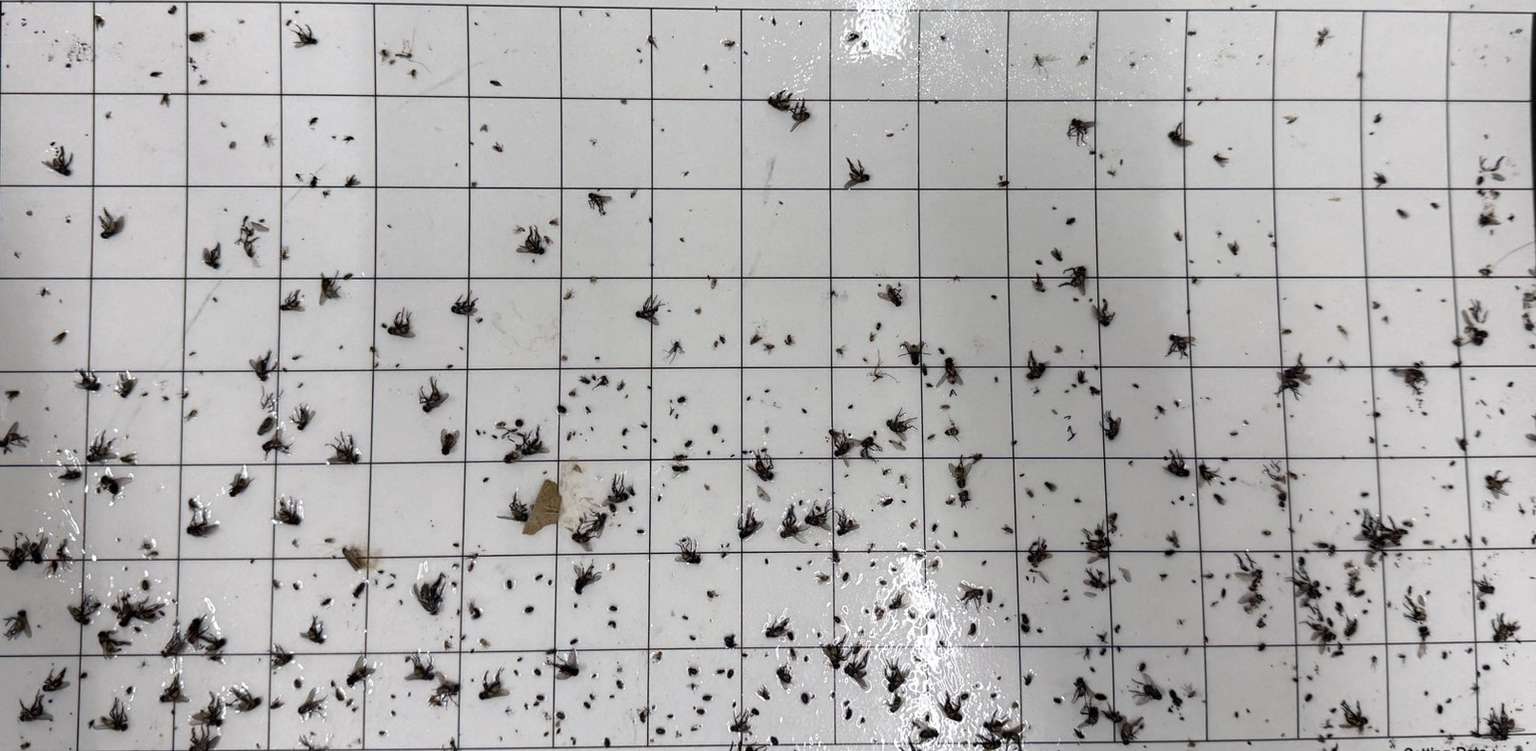fly: (1355, 507, 1390, 562), (1480, 703, 1526, 741), (412, 573, 449, 617), (324, 431, 363, 467), (188, 690, 225, 727), (92, 696, 131, 731), (18, 688, 55, 724), (544, 647, 581, 682), (416, 377, 451, 413), (572, 558, 604, 597), (1460, 308, 1490, 349), (385, 305, 420, 340), (96, 627, 133, 660), (843, 648, 872, 690), (779, 505, 810, 544), (884, 407, 919, 441), (0, 420, 31, 458), (820, 632, 851, 670), (1082, 521, 1112, 560), (514, 222, 547, 257), (247, 348, 280, 383), (261, 425, 293, 461), (1128, 675, 1164, 706), (880, 657, 911, 693), (842, 155, 872, 192), (85, 430, 118, 463), (496, 490, 529, 523), (96, 206, 128, 240), (345, 655, 377, 689), (1065, 114, 1097, 148), (296, 686, 330, 718), (634, 292, 665, 327), (479, 668, 510, 702), (1339, 700, 1370, 734), (316, 269, 343, 308), (99, 474, 134, 504), (272, 496, 304, 528), (2, 609, 34, 641), (41, 146, 74, 177), (159, 673, 192, 704), (1490, 611, 1521, 644), (748, 447, 777, 482), (109, 591, 137, 627), (1284, 352, 1312, 388), (230, 683, 262, 714), (1272, 370, 1303, 402), (1057, 263, 1087, 296), (67, 592, 96, 626), (131, 595, 165, 624), (736, 507, 765, 541), (806, 497, 832, 534), (404, 652, 436, 682), (935, 691, 965, 723), (1379, 515, 1409, 547), (186, 510, 220, 538), (450, 289, 482, 318), (0, 540, 29, 572), (1164, 333, 1197, 361), (1390, 368, 1428, 392), (787, 98, 813, 133), (1022, 349, 1050, 381), (1026, 535, 1054, 567), (585, 190, 615, 219), (266, 641, 295, 671), (833, 506, 862, 536), (1161, 449, 1191, 478), (159, 629, 187, 660), (435, 670, 462, 702), (1485, 469, 1512, 501), (947, 455, 972, 489), (937, 358, 966, 387), (299, 614, 326, 645), (958, 581, 984, 613), (899, 340, 932, 365), (289, 403, 316, 432), (228, 470, 255, 499), (42, 666, 71, 693), (1167, 121, 1194, 150), (764, 84, 794, 110), (1119, 716, 1145, 746), (185, 729, 220, 751), (186, 614, 206, 652), (571, 519, 594, 552), (1068, 676, 1096, 703), (676, 536, 702, 565), (1196, 459, 1222, 488), (998, 722, 1027, 748), (606, 473, 630, 504), (830, 436, 862, 459), (22, 536, 49, 563), (114, 370, 139, 399), (438, 426, 461, 457), (1103, 411, 1126, 442), (877, 282, 904, 308), (1089, 301, 1116, 327), (912, 718, 940, 743), (1471, 574, 1496, 601), (277, 290, 306, 313), (73, 369, 102, 392), (587, 507, 608, 538), (729, 709, 754, 735), (983, 710, 1010, 734), (202, 240, 224, 269), (764, 615, 791, 638), (1077, 704, 1100, 729), (976, 731, 1004, 751), (1084, 567, 1107, 591), (1102, 700, 1124, 725), (776, 664, 794, 691), (204, 634, 228, 653), (1343, 615, 1359, 638)
test: (521, 478, 564, 538), (1290, 569, 1322, 615), (1304, 620, 1337, 655), (518, 426, 551, 458), (869, 348, 893, 387), (341, 543, 371, 572), (292, 23, 321, 50), (859, 434, 884, 461), (394, 38, 420, 63), (1031, 52, 1059, 75), (664, 337, 687, 364), (1416, 624, 1434, 658), (56, 538, 74, 568), (237, 238, 260, 261), (1270, 482, 1288, 510), (58, 464, 84, 483), (253, 414, 277, 434), (1477, 210, 1502, 228), (1313, 28, 1333, 48), (888, 589, 907, 610), (1031, 271, 1048, 294), (43, 557, 60, 579), (884, 694, 904, 712), (1075, 52, 1094, 70), (943, 424, 962, 442), (1021, 667, 1038, 687), (1169, 688, 1186, 708), (671, 462, 692, 478), (1373, 170, 1388, 192), (1211, 152, 1230, 169), (957, 489, 973, 509), (722, 632, 739, 650), (1166, 529, 1182, 548), (646, 32, 661, 52), (1455, 434, 1470, 454), (120, 450, 137, 467), (595, 373, 612, 390), (331, 686, 347, 704), (52, 330, 68, 348), (1226, 239, 1242, 257), (343, 174, 362, 189), (188, 30, 208, 44), (268, 695, 285, 711), (352, 581, 367, 599), (262, 132, 277, 150), (757, 684, 772, 702), (468, 601, 482, 620), (1050, 245, 1064, 264), (1280, 112, 1299, 126), (428, 693, 444, 709), (4, 388, 21, 403), (92, 13, 107, 30), (503, 449, 520, 464), (1394, 206, 1411, 221), (1213, 492, 1230, 507), (671, 451, 689, 465), (845, 30, 861, 45), (816, 570, 831, 586), (1477, 265, 1494, 279), (1336, 323, 1350, 340), (1109, 509, 1121, 528), (1075, 369, 1089, 385), (852, 641, 866, 657), (307, 114, 321, 129), (491, 140, 506, 154), (159, 92, 173, 107), (880, 494, 894, 509), (1400, 516, 1416, 529), (749, 332, 763, 346), (308, 174, 321, 189), (577, 373, 592, 386), (1002, 522, 1015, 537), (140, 578, 152, 594), (138, 539, 154, 551), (831, 548, 842, 565), (319, 595, 333, 608), (187, 497, 200, 511), (723, 37, 737, 50), (556, 403, 569, 417), (493, 419, 508, 431), (1372, 111, 1384, 126), (968, 621, 978, 639), (1351, 588, 1367, 599), (207, 655, 224, 665), (478, 122, 491, 135), (567, 387, 580, 400), (186, 409, 199, 422), (1335, 359, 1348, 372), (947, 387, 960, 400), (637, 709, 649, 723), (294, 171, 306, 185), (1064, 213, 1076, 227), (1173, 230, 1185, 244), (614, 379, 626, 393), (1088, 385, 1102, 397), (1094, 690, 1108, 702), (513, 224, 528, 235), (653, 648, 664, 663), (150, 70, 165, 81), (709, 276, 719, 292), (271, 577, 283, 590), (479, 636, 491, 649), (687, 680, 700, 692), (166, 4, 179, 16), (835, 344, 847, 357), (717, 333, 730, 345), (1155, 404, 1168, 416), (1371, 299, 1383, 312), (1450, 359, 1463, 371), (1185, 686, 1197, 699), (1325, 544, 1338, 556), (1286, 469, 1298, 482), (1469, 682, 1481, 695), (466, 550, 480, 561), (784, 333, 795, 347), (997, 178, 1011, 189), (1280, 326, 1294, 337), (763, 424, 774, 438), (1315, 539, 1329, 550), (1463, 532, 1474, 546), (449, 736, 459, 751), (542, 233, 554, 245), (227, 140, 239, 152), (763, 341, 775, 353), (279, 249, 291, 261), (562, 289, 574, 301), (368, 344, 380, 356), (1380, 313, 1392, 325), (588, 136, 600, 148), (343, 133, 356, 144), (489, 78, 502, 89), (379, 48, 390, 61), (769, 16, 780, 29), (589, 274, 600, 287), (343, 270, 354, 283), (1054, 344, 1065, 357), (1325, 616, 1336, 629), (1475, 173, 1485, 187), (144, 549, 159, 558), (290, 537, 301, 549), (523, 604, 535, 615), (406, 67, 418, 78), (1035, 256, 1046, 268), (1163, 15, 1175, 26), (180, 390, 191, 402), (939, 401, 951, 412), (946, 494, 957, 506), (1045, 481, 1057, 492), (1164, 548, 1176, 559), (959, 691, 971, 702), (929, 558, 941, 569), (1323, 718, 1335, 729), (615, 677, 625, 690), (342, 697, 355, 707), (828, 289, 841, 299), (710, 423, 720, 436), (868, 331, 878, 344), (789, 647, 799, 660), (1083, 647, 1093, 660), (564, 430, 573, 444), (1405, 583, 1414, 597), (607, 619, 618, 630), (700, 63, 711, 74), (236, 17, 247, 28), (620, 426, 631, 437), (514, 417, 525, 428), (936, 345, 947, 356), (1313, 301, 1324, 312), (1097, 632, 1108, 643), (907, 610, 918, 621), (1107, 577, 1118, 588), (1316, 734, 1327, 745), (1478, 398, 1489, 409), (548, 216, 560, 226), (19, 741, 31, 751), (556, 709, 566, 721), (602, 736, 612, 748), (688, 666, 698, 678), (701, 692, 713, 702), (40, 287, 50, 299), (388, 56, 398, 68), (676, 394, 688, 404), (619, 95, 629, 107), (859, 39, 869, 51), (683, 438, 693, 450), (291, 353, 303, 363), (1106, 169, 1118, 179), (1506, 379, 1516, 391), (986, 589, 994, 604), (908, 518, 918, 530), (1025, 488, 1035, 500), (655, 727, 668, 736), (1185, 29, 1198, 38), (1422, 537, 1435, 546), (1331, 650, 1347, 657), (291, 581, 301, 592), (293, 678, 303, 689), (11, 250, 21, 261), (283, 17, 294, 27), (692, 306, 703, 316), (938, 34, 949, 44), (161, 393, 171, 404), (874, 321, 884, 332), (919, 366, 930, 376), (799, 405, 810, 415), (703, 482, 713, 493), (1429, 200, 1440, 210), (1173, 399, 1183, 410), (1506, 213, 1517, 223), (1497, 407, 1508, 417), (786, 631, 796, 642), (770, 735, 780, 746), (607, 503, 618, 513), (840, 571, 850, 582), (881, 467, 892, 477), (1186, 738, 1197, 748), (1435, 704, 1445, 715), (505, 578, 514, 590), (727, 668, 736, 680), (104, 109, 113, 121), (211, 294, 220, 306), (560, 353, 569, 365), (801, 693, 810, 705), (1020, 624, 1032, 633), (1297, 555, 1306, 567), (845, 707, 853, 720), (1480, 536, 1488, 549), (534, 572, 544, 582), (125, 685, 135, 695), (532, 667, 542, 677), (296, 380, 306, 390), (924, 380, 934, 390), (1304, 692, 1314, 702), (1473, 429, 1483, 439), (1470, 729, 1480, 739), (535, 693, 546, 702), (569, 735, 578, 746), (198, 78, 209, 87), (628, 190, 637, 201), (846, 401, 855, 412), (926, 432, 937, 441), (993, 374, 1002, 385), (1128, 60, 1137, 71), (1204, 571, 1215, 580), (1262, 528, 1273, 537), (1370, 654, 1379, 665), (1478, 600, 1487, 611), (544, 647, 558, 654), (467, 560, 475, 572), (1372, 410, 1384, 418), (1368, 434, 1376, 446), (1021, 613, 1029, 625), (482, 475, 491, 485), (706, 590, 716, 599), (469, 180, 479, 189), (990, 292, 999, 302), (757, 14, 766, 24), (604, 10, 613, 20), (713, 5, 722, 15), (280, 365, 290, 374), (372, 361, 381, 371), (337, 343, 346, 353), (720, 549, 729, 559), (1191, 275, 1200, 285), (1215, 229, 1224, 239), (1185, 85, 1195, 94), (1229, 429, 1239, 438), (1326, 354, 1335, 364), (751, 707, 760, 717), (898, 474, 907, 484), (1210, 599, 1220, 608), (1257, 642, 1266, 652), (1422, 689, 1431, 699), (1356, 70, 1366, 79), (324, 536, 335, 544), (321, 189, 332, 197), (330, 132, 338, 143), (763, 556, 771, 567), (1087, 149, 1098, 157), (931, 522, 939, 533), (1139, 662, 1147, 673), (88, 718, 95, 730), (1518, 504, 1525, 516), (380, 321, 389, 330), (377, 567, 386, 576), (386, 581, 395, 590), (546, 577, 555, 586), (139, 661, 148, 670), (79, 671, 88, 680), (609, 604, 618, 613), (569, 636, 578, 645), (451, 561, 460, 570), (512, 668, 521, 677), (716, 667, 725, 676), (25, 209, 34, 218), (63, 217, 72, 226), (678, 235, 687, 244), (584, 405, 593, 414), (640, 421, 649, 430), (1187, 257, 1196, 266), (833, 615, 842, 624), (1053, 696, 1062, 705), (1360, 490, 1369, 499), (1396, 652, 1405, 661), (1423, 588, 1432, 597), (329, 678, 337, 688), (636, 527, 646, 535), (713, 339, 721, 349), (633, 47, 643, 55), (741, 49, 751, 57), (65, 61, 73, 71), (446, 362, 454, 372), (188, 350, 198, 358), (763, 387, 773, 395), (777, 198, 785, 208), (1100, 647, 1108, 657), (1228, 475, 1238, 483), (1467, 646, 1475, 656), (1445, 696, 1453, 706), (248, 557, 257, 565), (379, 728, 387, 737), (572, 602, 581, 610), (443, 640, 451, 649), (403, 654, 411, 663), (504, 706, 512, 715), (532, 700, 541, 708), (583, 700, 592, 708), (682, 613, 690, 622), (688, 634, 697, 642), (218, 121, 227, 129), (682, 170, 691, 178), (576, 9, 585, 17), (1117, 158, 1126, 166), (191, 62, 199, 71), (621, 444, 630, 452), (745, 394, 753, 403), (1133, 382, 1141, 391), (1011, 438, 1019, 447), (730, 700, 738, 709), (842, 699, 851, 707), (1073, 496, 1082, 504), (1160, 572, 1168, 581), (915, 551, 924, 559), (1202, 635, 1210, 644), (1267, 231, 1276, 239), (952, 274, 961, 282), (1449, 459, 1457, 468), (1420, 410, 1428, 419), (1482, 664, 1491, 672), (1475, 669, 1483, 678), (388, 572, 398, 579), (652, 435, 659, 445), (386, 222, 393, 232), (646, 383, 653, 393), (673, 412, 680, 422), (696, 708, 706, 715), (830, 691, 837, 701), (1114, 624, 1121, 634), (938, 639, 945, 649), (1441, 650, 1448, 660), (1243, 418, 1250, 428), (1354, 507, 1361, 517), (1483, 132, 1490, 142), (389, 692, 397, 700), (351, 706, 359, 714), (608, 692, 616, 700), (637, 57, 645, 65), (472, 20, 480, 28), (797, 19, 805, 27), (932, 97, 940, 105), (886, 131, 894, 139), (393, 361, 401, 369), (593, 354, 601, 362), (474, 428, 482, 436), (49, 140, 57, 148), (222, 206, 230, 214), (1185, 307, 1193, 315), (1097, 152, 1105, 160), (56, 448, 64, 456), (158, 610, 166, 618), (803, 655, 811, 663), (952, 529, 960, 537), (1062, 594, 1070, 602), (1127, 460, 1135, 468), (814, 504, 822, 512), (1271, 240, 1279, 248), (1226, 144, 1234, 152), (1361, 607, 1369, 615), (1234, 272, 1242, 280), (476, 316, 485, 323), (390, 709, 397, 718), (588, 693, 597, 700), (628, 505, 635, 514), (656, 494, 663, 503), (648, 216, 655, 225), (141, 391, 150, 398), (458, 344, 465, 353), (468, 139, 475, 148), (668, 407, 675, 416), (728, 453, 737, 460), (1072, 297, 1081, 304), (929, 611, 936, 620), (1116, 645, 1123, 654), (1179, 494, 1186, 503), (1273, 553, 1282, 560), (1221, 456, 1230, 463), (1328, 707, 1337, 714), (1395, 551, 1404, 558), (1489, 228, 1496, 237), (1514, 283, 1521, 292), (308, 730, 317, 737), (356, 736, 363, 745), (982, 49, 992, 55), (1387, 600, 1393, 610), (451, 541, 459, 548), (610, 562, 617, 570), (590, 672, 598, 679), (516, 655, 523, 663), (451, 580, 458, 588), (459, 634, 467, 641), (469, 647, 476, 655), (523, 702, 530, 710), (555, 727, 562, 735), (543, 731, 551, 738), (293, 9, 301, 16), (659, 126, 667, 133), (453, 161, 460, 169), (1196, 100, 1203, 108), (134, 626, 142, 633), (691, 725, 698, 733), (989, 691, 996, 699), (981, 559, 988, 567), (1004, 614, 1012, 621), (879, 579, 886, 587), (901, 546, 908, 554), (1292, 676, 1300, 683), (1220, 479, 1227, 487), (1307, 675, 1314, 683), (861, 356, 869, 363), (1288, 526, 1295, 534), (1224, 572, 1231, 580), (1366, 597, 1373, 605), (1451, 537, 1458, 545), (1438, 727, 1446, 734), (1424, 511, 1432, 518), (1441, 483, 1448, 491), (1256, 53, 1264, 60), (258, 217, 266, 224), (1221, 587, 1226, 598), (589, 424, 595, 433), (740, 652, 749, 658), (1234, 710, 1240, 719), (351, 601, 358, 608), (667, 712, 674, 719), (650, 704, 657, 711), (1051, 205, 1058, 212), (1034, 388, 1041, 395), (870, 561, 877, 568), (1036, 627, 1043, 634), (891, 566, 898, 573), (934, 544, 941, 551), (863, 608, 870, 615), (1179, 715, 1186, 722), (1246, 740, 1253, 747), (1071, 382, 1078, 389), (1093, 364, 1100, 371), (1447, 483, 1454, 490), (1325, 585, 1332, 592), (1421, 443, 1428, 450), (1289, 412, 1296, 419), (1480, 562, 1487, 569), (1368, 129, 1375, 136), (1440, 297, 1447, 304), (53, 38, 60, 45), (373, 578, 379, 586), (491, 434, 499, 440), (720, 437, 726, 445), (255, 742, 261, 750), (795, 566, 803, 572), (1090, 666, 1096, 674), (1019, 472, 1027, 478), (798, 499, 804, 507), (1326, 732, 1334, 738), (1329, 509, 1335, 517), (1362, 398, 1368, 406), (20, 16, 28, 22), (1184, 646, 1189, 655), (331, 554, 338, 560), (312, 572, 318, 579), (398, 598, 404, 605), (406, 691, 413, 697), (123, 565, 129, 572), (47, 698, 54, 704), (455, 608, 461, 615), (169, 709, 175, 716), (706, 449, 713, 455), (44, 405, 50, 412), (72, 449, 79, 455), (171, 598, 178, 604), (681, 536, 687, 543), (814, 541, 821, 547), (807, 559, 813, 566), (860, 717, 866, 724), (999, 602, 1006, 608), (900, 498, 907, 504), (872, 430, 879, 436), (843, 473, 850, 479), (866, 548, 872, 555), (1168, 707, 1174, 714), (1216, 258, 1222, 265), (1415, 286, 1421, 293), (1439, 544, 1446, 550), (5, 63, 11, 70), (0, 11, 6, 18), (40, 29, 47, 35), (811, 693, 816, 701), (116, 536, 122, 542), (572, 430, 578, 436), (36, 623, 42, 629), (725, 542, 731, 548), (764, 652, 770, 658), (1063, 588, 1069, 594), (1189, 501, 1195, 507), (1245, 707, 1251, 713), (1064, 388, 1070, 394), (1276, 403, 1282, 409), (1308, 506, 1314, 512), (1374, 728, 1380, 734), (1255, 218, 1261, 224), (1213, 97, 1219, 103), (33, 29, 39, 35), (531, 258, 536, 265), (708, 83, 713, 90), (69, 710, 74, 717), (859, 629, 864, 636), (1080, 348, 1085, 355), (1383, 442, 1388, 449), (1345, 520, 1350, 527), (449, 634, 454, 640), (470, 677, 475, 683), (53, 433, 58, 439), (499, 735, 504, 741), (720, 543, 725, 549), (661, 482, 666, 488), (1025, 575, 1030, 581), (997, 675, 1002, 681), (1031, 514, 1037, 519), (1191, 579, 1197, 584), (1179, 619, 1184, 625), (870, 507, 875, 513), (819, 487, 824, 493), (869, 542, 874, 548), (1470, 376, 1476, 381), (1171, 499, 1175, 506), (69, 499, 74, 504), (692, 706, 697, 711), (617, 522, 622, 527), (903, 485, 908, 490), (799, 450, 804, 455), (832, 490, 836, 496)
